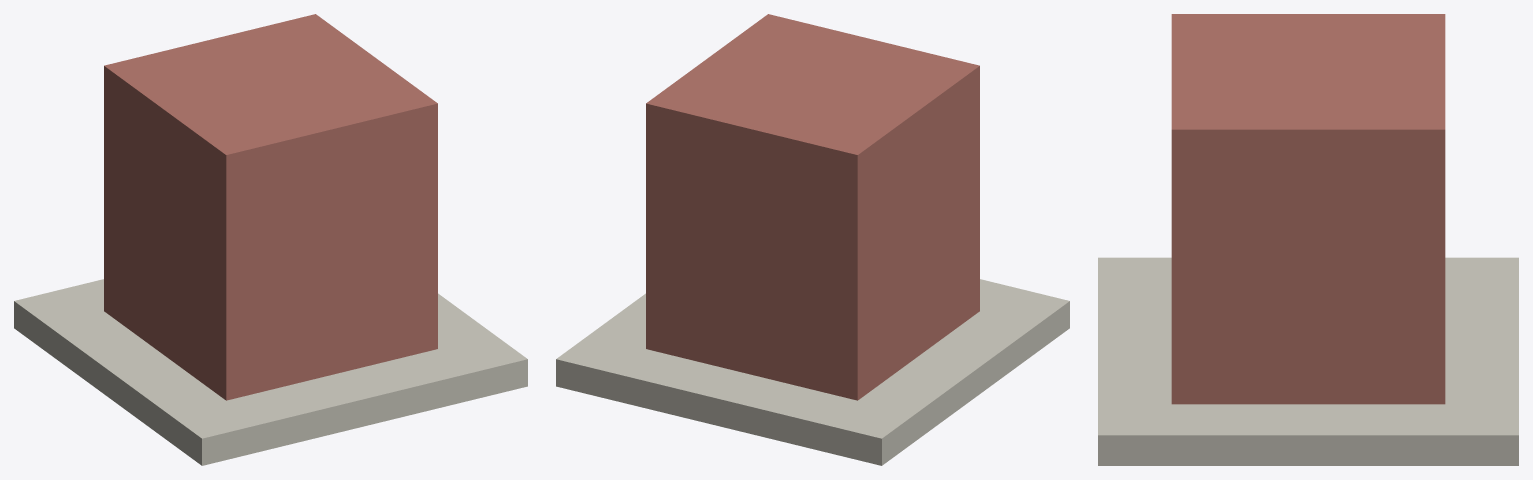
Rendered from tea_glass.glb.
3 renders of one model, left to right at view 1: azimuth 30°, elevation 25°; view 2: azimuth 150°, elevation 25°; view 3: azimuth 270°, elevation 25°, orthographic. The views are drawn at different scales.
Parts seen in each view (by area): view 1: body; view 2: body; view 3: body.
Boxes of the visible parts, left/top/right/bottom form: body: left=14, top=14, right=527, bottom=465; body: left=556, top=14, right=1069, bottom=465; body: left=1098, top=14, right=1518, bottom=465.
Size of the model in its own units: 0.1 by 0.08 by 0.1.
